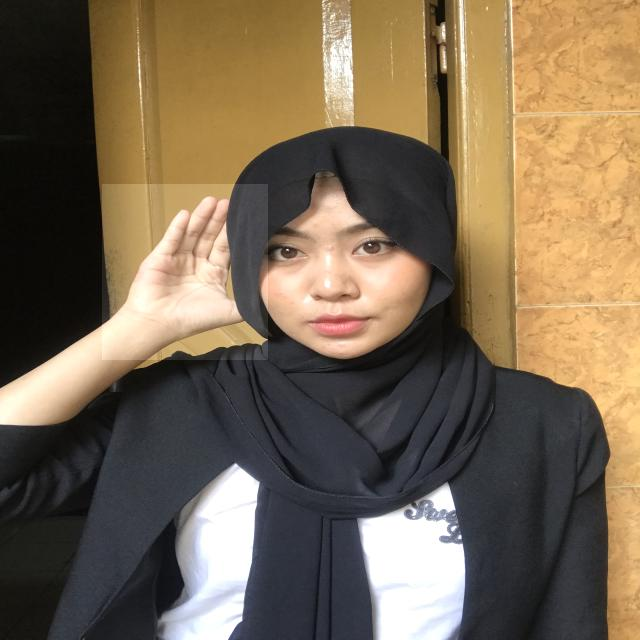mendengar: (102, 184, 268, 360)
